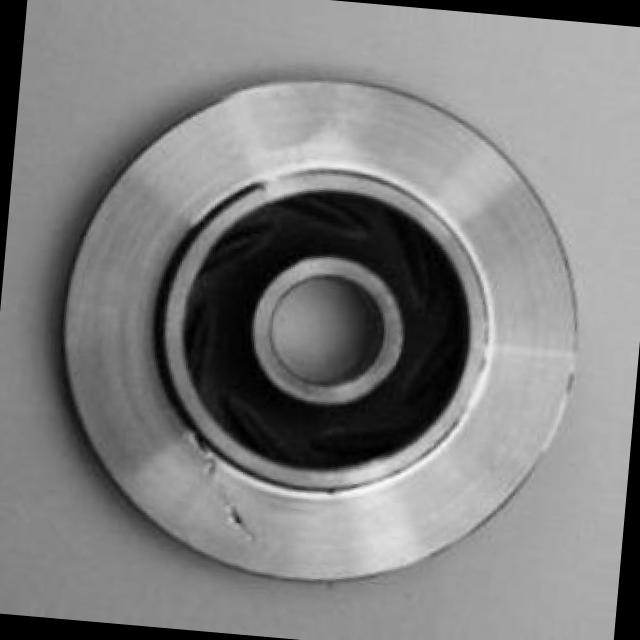Defect: (192, 424, 228, 486), (223, 505, 254, 544)
